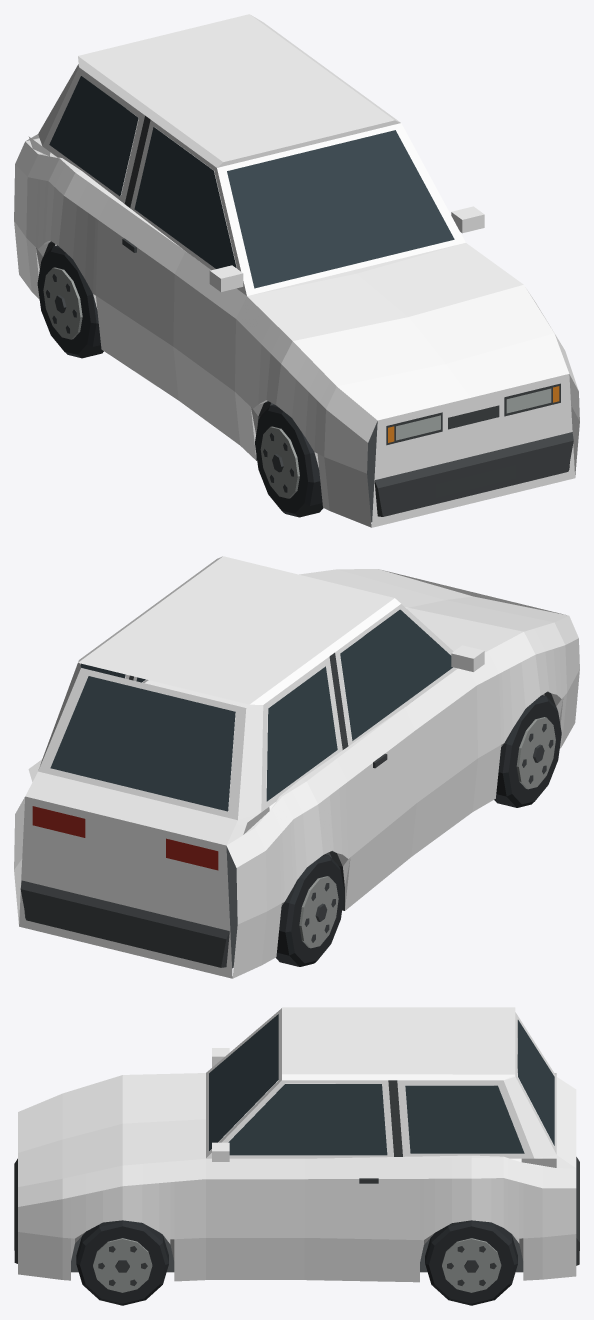
The model's file is vorhaus_uhu.glb.
3 views of the same model, one above another, from view 1: azimuth 30°, elevation 25°; view 2: azimuth 150°, elevation 25°; view 3: azimuth 270°, elevation 25° (orthographic). The views are drawn at different scales.
Parts seen in each view (by area): view 1: vorhaus_uhu; view 2: vorhaus_uhu; view 3: vorhaus_uhu.
Part boxes in pixels (x1,y1,x2,y2): vorhaus_uhu: (14, 14, 579, 527); vorhaus_uhu: (14, 556, 579, 978); vorhaus_uhu: (14, 1007, 579, 1305).
Bounding box in the file's own units: 1.65 × 1.61 × 3.81.
8 materials, 1 textured.
